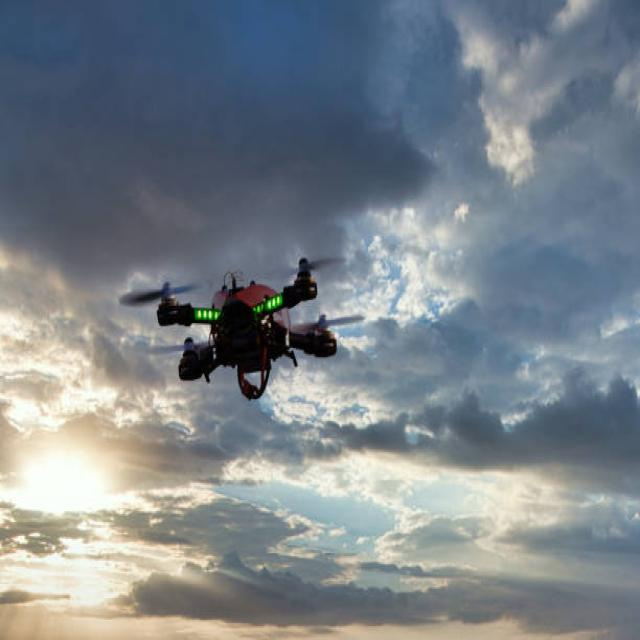drone: (118, 253, 365, 401)
